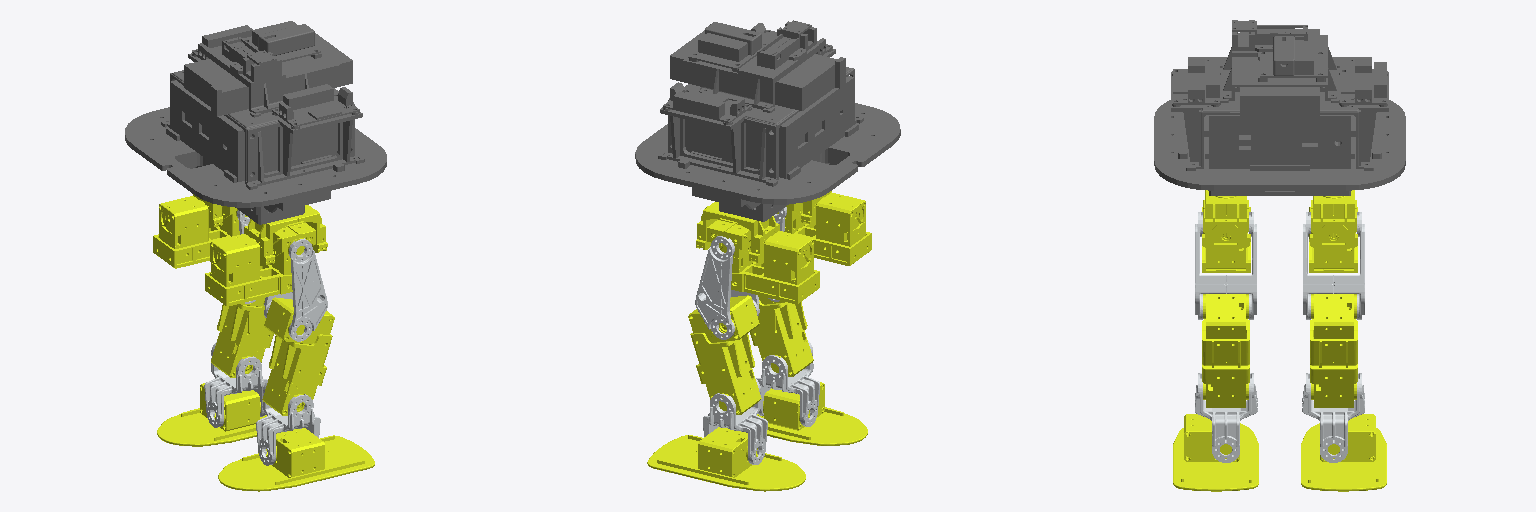
URDF robot description (exhx5_w_b_16):
<?xml version="1.0" encoding="utf-8"?>
<!-- This URDF was automatically created by SolidWorks to URDF Exporter! Originally created by [author] ([email redacted]) 
     Commit Version: 1.5.1-0-g916b5db  Build Version: 1.5.7152.31018
     For more information, please see http://wiki.ros.org/sw_urdf_exporter -->
<robot
  name="exhx5_w_b_16">
  <link
    name="body_link">
    <inertial>
      <origin
        xyz="0.00043545 0.00025536 0.10071"
        rpy="0 0 0" />
      <mass
        value="1.8238" />
      <inertia
        ixx="0.0025905"
        ixy="-5.6852E-06"
        ixz="-1.3106E-05"
        iyy="0.0024595"
        iyz="-1.261E-06"
        izz="0.0046407" />
    </inertial>
    <visual>
      <origin
        xyz="0 0 0"
        rpy="0 0 0" />
      <geometry>
        <mesh
          filename="../meshes/body_link.STL" />
      </geometry>
      <material
        name="">
        <color
          rgba="0.49804 0.49804 0.49804 1" />
      </material>
    </visual>
    <collision>
      <origin
        xyz="0 0 0"
        rpy="0 0 0" />
      <geometry>
        <mesh
          filename="../meshes/body_link.STL" />
      </geometry>
    </collision>
  </link>

  <link
    name="imu_link">
    <inertial>
      <origin
        xyz="-0.008387 1.336E-17 -0.0069463"
        rpy="0 0 0" />
      <mass
        value="0.0062931" />
      <inertia
        ixx="3.2242E-07"
        ixy="3.3527E-22"
        ixz="-6.9193E-08"
        iyy="9.2229E-07"
        iyz="-8.0392E-22"
        izz="1.1018E-06" />
    </inertial>
    <visual>
      <origin
        xyz="0 0 0"
        rpy="0 0 0" />
      <geometry>
        <mesh
          filename="../meshes/imu_link.STL" />
      </geometry>
      <material
        name="">
        <color
          rgba="0.79216 0.81961 0.93333 1" />
      </material>
    </visual>
    <collision>
      <origin
        xyz="0 0 0"
        rpy="0 0 0" />
      <geometry>
        <mesh
          filename="../meshes/imu_link.STL" />
      </geometry>
    </collision>
  </link>
  <joint
    name="imu"
    type="fixed">
    <origin
      xyz="0 0 0.0492"
      rpy="0 0 0" />
    <parent
      link="body_link" />
    <child
      link="imu_link" />
    <axis
      xyz="0 0 0" />
    <limit
      lower="-3.14"
      upper="3.14"
      effort="4"
      velocity="4" />
  </joint>
  <link
    name="l_hip_g_link">
    <inertial>
      <origin
        xyz="-0.0043797 -8.6604E-08 0.011813"
        rpy="0 0 0" />
      <mass
        value="0.061008" />
      <inertia
        ixx="1.167E-05"
        ixy="7.1767E-11"
        ixz="9.1442E-09"
        iyy="2.2342E-05"
        iyz="2.5177E-11"
        izz="2.4892E-05" />
    </inertial>
    <visual>
      <origin
        xyz="0 0 0"
        rpy="0 0 0" />
      <geometry>
        <mesh
          filename="../meshes/l_hip_g_link.STL" />
      </geometry>
      <material
        name="">
        <color
          rgba="0.9451 1 0.18431 1" />
      </material>
    </visual>
    <collision>
      <origin
        xyz="0 0 0"
        rpy="0 0 0" />
      <geometry>
        <mesh
          filename="../meshes/l_hip_g_link.STL" />
      </geometry>
    </collision>
  </link>
  <joint
    name="l_hip_g"
    type="fixed">
    <origin
      xyz=".002 0.045 0"
      rpy="0 0 0" />
    <parent
      link="body_link" />
    <child
      link="l_hip_g_link" />
    <axis
      xyz="0 0 0" />
  </joint>
  <link
    name="l_hip_roll_link">
    <inertial>
      <origin
        xyz="0.013831 0.00033457 0.025453"
        rpy="0 0 0" />
      <mass
        value="0.2969" />
      <inertia
        ixx="7.8136E-05"
        ixy="7.265E-07"
        ixz="-6.9809E-08"
        iyy="9.2183E-05"
        iyz="-5.6881E-11"
        izz="7.1034E-05" />
    </inertial>
    <visual>
      <origin
        xyz="0 0 0"
        rpy="0 0 0" />
      <geometry>
        <mesh
          filename="../meshes/l_hip_roll_link.STL" />
      </geometry>
      <material
        name="">
        <color
          rgba="0.9451 1 0.18431 1" />
      </material>
    </visual>
    <collision>
      <origin
        xyz="0 0 0"
        rpy="0 0 0" />
      <geometry>
        <mesh
          filename="../meshes/l_hip_roll_link.STL" />
      </geometry>
    </collision>
  </link>
  <joint
    name="l_hip_roll"
    type="revolute">
    <origin
      xyz="0 0 0"
      rpy="3.1416 1.5708 0" />
    <parent
      link="l_hip_g_link" />
    <child
      link="l_hip_roll_link" />
    <axis
      xyz="0 0 1" />
    <limit
      lower="-3.14"
      upper="3.14"
      effort="4"
      velocity="4" />
  </joint>
  <link
    name="l_hip_pitch_link">
    <inertial>
      <origin
        xyz="0.041225 -0.007321 -5.0713E-08"
        rpy="0 0 0" />
      <mass
        value="0.051592" />
      <inertia
        ixx="2.7959E-05"
        ixy="2.0752E-06"
        ixz="-8.0934E-11"
        iyy="4.8156E-05"
        iyz="3.6317E-11"
        izz="2.9604E-05" />
    </inertial>
    <visual>
      <origin
        xyz="0 0 0"
        rpy="0 0 0" />
      <geometry>
        <mesh
          filename="../meshes/l_hip_pitch_link.STL" />
      </geometry>
      <material
        name="">
        <color
          rgba="0.89804 0.91765 0.92941 1" />
      </material>
    </visual>
    <collision>
      <origin
        xyz="0 0 0"
        rpy="0 0 0" />
      <geometry>
        <mesh
          filename="../meshes/l_hip_pitch_link.STL" />
      </geometry>
    </collision>
  </link>
  <joint
    name="l_hip_pitch"
    type="revolute">
    <origin
      xyz="0 0 0"
      rpy="1.5708 0 0" />
    <parent
      link="l_hip_roll_link" />
    <child
      link="l_hip_pitch_link" />
    <axis
      xyz="0 0 1" />
    <limit
      lower="-3.14"
      upper="3.14"
      effort="4"
      velocity="4" />
  </joint>
  <link
    name="l_knee_link">
    <inertial>
      <origin
        xyz="0.033756 -0.0084189 -6.6115E-09"
        rpy="0 0 0" />
      <mass
        value="0.28878" />
      <inertia
        ixx="6.6724E-05"
        ixy="7.5004E-07"
        ixz="-8.4578E-07"
        iyy="6.5699E-05"
        iyz="4.1085E-07"
        izz="7.0381E-05" />
    </inertial>
    <visual>
      <origin
        xyz="0 0 0"
        rpy="0 0 0" />
      <geometry>
        <mesh
          filename="../meshes/l_knee_link.STL" />
      </geometry>
      <material
        name="">
        <color
          rgba="0.9451 1 0.18431 1" />
      </material>
    </visual>
    <collision>
      <origin
        xyz="0 0 0"
        rpy="0 0 0" />
      <geometry>
        <mesh
          filename="../meshes/l_knee_link.STL" />
      </geometry>
    </collision>
  </link>
  <joint
    name="l_knee"
    type="revolute">
    <origin
      xyz="0.075954 0 0"
      rpy="0 0 0" />
    <parent
      link="l_hip_pitch_link" />
    <child
      link="l_knee_link" />
    <axis
      xyz="0 0 1" />
    <limit
      lower="-3.14"
      upper="3.14"
      effort="4"
      velocity="4" />
  </joint>
  <link
    name="l_ank_pitch_link">
    <inertial>
      <origin
        xyz="0.022786 -7.3909E-09 -7.1981E-06"
        rpy="0 0 0" />
      <mass
        value="0.044772" />
      <inertia
        ixx="1.777E-05"
        ixy="8.555E-14"
        ixz="-3.3713E-09"
        iyy="1.7119E-05"
        iyz="1.7593E-11"
        izz="1.8661E-05" />
    </inertial>
    <visual>
      <origin
        xyz="0 0 0"
        rpy="0 0 0" />
      <geometry>
        <mesh
          filename="../meshes/l_ank_pitch_link.STL" />
      </geometry>
      <material
        name="">
        <color
          rgba="0.89804 0.91765 0.92941 1" />
      </material>
    </visual>
    <collision>
      <origin
        xyz="0 0 0"
        rpy="0 0 0" />
      <geometry>
        <mesh
          filename="../meshes/l_ank_pitch_link.STL" />
      </geometry>
    </collision>
  </link>
  <joint
    name="l_ank_pitch"
    type="revolute">
    <origin
      xyz="0.074602 0 0"
      rpy="3.1416 0 0" />
    <parent
      link="l_knee_link" />
    <child
      link="l_ank_pitch_link" />
    <axis
      xyz="0 0 1" />
    <limit
      lower="-3.14"
      upper="3.14"
      effort="4"
      velocity="4" />
  </joint>
  <link
    name="l_ank_roll_link">
    <inertial>
      <origin
        xyz="0.0047069 0.010728 0.0015299"
        rpy="0 0 0" />
      <mass
        value="0.16774" />
      <inertia
        ixx="0.00012039"
        ixy="-3.7428E-09"
        ixz="4.4069E-08"
        iyy="8.7735E-05"
        iyz="7.0469E-07"
        izz="4.7866E-05" />
    </inertial>
    <visual>
      <origin
        xyz="0 0 0"
        rpy="0 0 0" />
      <geometry>
        <mesh
          filename="../meshes/l_ank_roll_link.STL" />
      </geometry>
      <material
        name="">
        <color
          rgba="0.9451 1 0.18431 1" />
      </material>
    </visual>
    <collision>
      <origin
        xyz="0 0 0"
        rpy="0 0 0" />
      <geometry>
        <mesh
          filename="../meshes/l_ank_roll_link.STL" />
      </geometry>
    </collision>
  </link>
  <joint
    name="l_ank_roll"
    type="revolute">
    <origin
      xyz="0.0465 0 0"
      rpy="-1.5708 0 0" />
    <parent
      link="l_ank_pitch_link" />
    <child
      link="l_ank_roll_link" />
    <axis
      xyz="0 0 1" />
    <limit
      lower="-3.14"
      upper="3.14"
      effort="4"
      velocity="4" />
  </joint>
  <link
    name="r_hip_g_link">
    <inertial>
      <origin
        xyz="-0.0043797 -8.6604E-08 0.011813"
        rpy="0 0 0" />
      <mass
        value="0.061008" />
      <inertia
        ixx="1.167E-05"
        ixy="7.1767E-11"
        ixz="9.1442E-09"
        iyy="2.2342E-05"
        iyz="2.5177E-11"
        izz="2.4892E-05" />
    </inertial>
    <visual>
      <origin
        xyz="0 0 0"
        rpy="0 0 0" />
      <geometry>
        <mesh
          filename="../meshes/r_hip_g_link.STL" />
      </geometry>
      <material
        name="">
        <color
          rgba="0.9451 1 0.18431 1" />
      </material>
    </visual>
    <collision>
      <origin
        xyz="0 0 0"
        rpy="0 0 0" />
      <geometry>
        <mesh
          filename="../meshes/r_hip_g_link.STL" />
      </geometry>
    </collision>
  </link>
  <joint
    name="r_hip_g"
    type="fixed">
    <origin
      xyz=".002 -.045 0"
      rpy="0 0 0" />
    <parent
      link="body_link" />
    <child
      link="r_hip_g_link" />
    <axis
      xyz="0 0 0" />
  </joint>
  <link
    name="r_hip_roll_link">
    <inertial>
      <origin
        xyz="0.013831 0.00033457 0.025453"
        rpy="0 0 0" />
      <mass
        value="0.2969" />
      <inertia
        ixx="7.8136E-05"
        ixy="7.265E-07"
        ixz="-6.9809E-08"
        iyy="9.2183E-05"
        iyz="-5.6881E-11"
        izz="7.1034E-05" />
    </inertial>
    <visual>
      <origin
        xyz="0 0 0"
        rpy="0 0 0" />
      <geometry>
        <mesh
          filename="../meshes/r_hip_roll_link.STL" />
      </geometry>
      <material
        name="">
        <color
          rgba="0.9451 1 0.18431 1" />
      </material>
    </visual>
    <collision>
      <origin
        xyz="0 0 0"
        rpy="0 0 0" />
      <geometry>
        <mesh
          filename="../meshes/r_hip_roll_link.STL" />
      </geometry>
    </collision>
  </link>
  <joint
    name="r_hip_roll"
    type="revolute">
    <origin
      xyz="0 0 0"
      rpy="3.1416 1.5708 0" />
    <parent
      link="r_hip_g_link" />
    <child
      link="r_hip_roll_link" />
    <axis
      xyz="0 0 1" />
    <limit
      lower="-3.14"
      upper="3.14"
      effort="4"
      velocity="4" />
  </joint>
  <link
    name="r_hip_pitch_link">
    <inertial>
      <origin
        xyz="0.041225 0.007321 5.0713E-08"
        rpy="0 0 0" />
      <mass
        value="0.051592" />
      <inertia
        ixx="2.7959E-05"
        ixy="-2.0752E-06"
        ixz="8.0934E-11"
        iyy="4.8156E-05"
        iyz="3.6317E-11"
        izz="2.9604E-05" />
    </inertial>
    <visual>
      <origin
        xyz="0 0 0"
        rpy="0 0 0" />
      <geometry>
        <mesh
          filename="../meshes/r_hip_pitch_link.STL" />
      </geometry>
      <material
        name="">
        <color
          rgba="0.89804 0.91765 0.92941 1" />
      </material>
    </visual>
    <collision>
      <origin
        xyz="0 0 0"
        rpy="0 0 0" />
      <geometry>
        <mesh
          filename="../meshes/r_hip_pitch_link.STL" />
      </geometry>
    </collision>
  </link>
  <joint
    name="r_hip_pitch"
    type="revolute">
    <origin
      xyz="0 0 0"
      rpy="-1.5708 0 0" />
    <parent
      link="r_hip_roll_link" />
    <child
      link="r_hip_pitch_link" />
    <axis
      xyz="0 0 1" />
    <limit
      lower="-3.14"
      upper="3.14"
      effort="4"
      velocity="4" />
  </joint>
  <link
    name="r_knee_link">
    <inertial>
      <origin
        xyz="0.033757 0.0084176 6.6115E-09"
        rpy="0 0 0" />
      <mass
        value="0.28878" />
      <inertia
        ixx="6.6724E-05"
        ixy="-7.5008E-07"
        ixz="8.458E-07"
        iyy="6.5699E-05"
        iyz="4.1081E-07"
        izz="7.0381E-05" />
    </inertial>
    <visual>
      <origin
        xyz="0 0 0"
        rpy="0 0 0" />
      <geometry>
        <mesh
          filename="../meshes/r_knee_link.STL" />
      </geometry>
      <material
        name="">
        <color
          rgba="0.9451 1 0.18431 1" />
      </material>
    </visual>
    <collision>
      <origin
        xyz="0 0 0"
        rpy="0 0 0" />
      <geometry>
        <mesh
          filename="../meshes/r_knee_link.STL" />
      </geometry>
    </collision>
  </link>
  <joint
    name="r_knee"
    type="revolute">
    <origin
      xyz="0.075954 0 0"
      rpy="0 0 0" />
    <parent
      link="r_hip_pitch_link" />
    <child
      link="r_knee_link" />
    <axis
      xyz="0 0 1" />
    <limit
      lower="-3.14"
      upper="3.14"
      effort="4"
      velocity="4" />
  </joint>
  <link
    name="r_ank_pitch_link">
    <inertial>
      <origin
        xyz="0.025786 -7.3887E-09 -7.1981E-06"
        rpy="0 0 0" />
      <mass
        value="0.044772" />
      <inertia
        ixx="1.777E-05"
        ixy="8.5434E-14"
        ixz="-3.3713E-09"
        iyy="1.7119E-05"
        iyz="1.7592E-11"
        izz="1.8661E-05" />
    </inertial>
    <visual>
      <origin
        xyz="0 0 0"
        rpy="0 0 0" />
      <geometry>
        <mesh
          filename="../meshes/r_ank_pitch_link.STL" />
      </geometry>
      <material
        name="">
        <color
          rgba="0.89804 0.91765 0.92941 1" />
      </material>
    </visual>
    <collision>
      <origin
        xyz="0 0 0"
        rpy="0 0 0" />
      <geometry>
        <mesh
          filename="../meshes/r_ank_pitch_link.STL" />
      </geometry>
    </collision>
  </link>
  <joint
    name="r_ank_pitch"
    type="revolute">
    <origin
      xyz="0.071602 0 0"
      rpy="3.1416 0 0" />
    <parent
      link="r_knee_link" />
    <child
      link="r_ank_pitch_link" />
    <axis
      xyz="0 0 1" />
    <limit
      lower="-3.14"
      upper="3.14"
      effort="4"
      velocity="4" />
  </joint>
  <link
    name="r_ank_roll_link">
    <inertial>
      <origin
        xyz="0.0077069 -0.010728 0.0015299"
        rpy="0 0 0" />
      <mass
        value="0.16774" />
      <inertia
        ixx="0.00012039"
        ixy="3.743E-09"
        ixz="4.407E-08"
        iyy="8.7735E-05"
        iyz="-7.0467E-07"
        izz="4.7866E-05" />
    </inertial>
    <visual>
      <origin
        xyz="0 0 0"
        rpy="0 0 0" />
      <geometry>
        <mesh
          filename="../meshes/r_ank_roll_link.STL" />
      </geometry>
      <material
        name="">
        <color
          rgba="0.9451 1 0.18431 1" />
      </material>
    </visual>
    <collision>
      <origin
        xyz="0 0 0"
        rpy="0 0 0" />
      <geometry>
        <mesh
          filename="../meshes/r_ank_roll_link.STL" />
      </geometry>
    </collision>
  </link>
  <joint
    name="r_ank_roll"
    type="revolute">
    <origin
      xyz="0.0465 0 0"
      rpy="1.5708 0 0" />
    <parent
      link="r_ank_pitch_link" />
    <child
      link="r_ank_roll_link" />
    <axis
      xyz="0 0 1" />
    <limit
      lower="-3.14"
      upper="3.14"
      effort="4"
      velocity="4" />
  </joint>
  <transmission name="r_hip_roll_tran">
    <type>transmission_interface/SimpleTransmission</type>
    <joint name="r_hip_roll">
      <hardwareInterface>hardware_interface/EffortJointInterface</hardwareInterface>
    </joint>
    <actuator name="r_hip_roll_motor">
      <hardwareInterface>hardware_interface/EffortJointInterface</hardwareInterface>
      <mechanicalReduction>1</mechanicalReduction>
    </actuator>
  </transmission>
  <transmission name="r_hip_pitch_tran">
    <type>transmission_interface/SimpleTransmission</type>
    <joint name="r_hip_pitch">
      <hardwareInterface>hardware_interface/EffortJointInterface</hardwareInterface>
    </joint>
    <actuator name="r_hip_pitch_motor">
      <hardwareInterface>hardware_interface/EffortJointInterface</hardwareInterface>
      <mechanicalReduction>1</mechanicalReduction>
    </actuator>
  </transmission>
  <transmission name="r_knee_tran">
    <type>transmission_interface/SimpleTransmission</type>
    <joint name="r_knee">
      <hardwareInterface>hardware_interface/EffortJointInterface</hardwareInterface>
    </joint>
    <actuator name="r_knee_motor">
      <hardwareInterface>hardware_interface/EffortJointInterface</hardwareInterface>
      <mechanicalReduction>1</mechanicalReduction>
    </actuator>
  </transmission>
  <transmission name="r_ank_pitch_tran">
    <type>transmission_interface/SimpleTransmission</type>
    <joint name="r_ank_pitch">
      <hardwareInterface>hardware_interface/EffortJointInterface</hardwareInterface>
    </joint>
    <actuator name="r_ank_pitch_motor">
      <hardwareInterface>hardware_interface/EffortJointInterface</hardwareInterface>
      <mechanicalReduction>1</mechanicalReduction>
    </actuator>
  </transmission>
  <transmission name="r_ank_roll_tran">
    <type>transmission_interface/SimpleTransmission</type>
    <joint name="r_ank_roll">
      <hardwareInterface>hardware_interface/EffortJointInterface</hardwareInterface>
    </joint>
    <actuator name="r_ank_roll_motor">
      <hardwareInterface>hardware_interface/EffortJointInterface</hardwareInterface>
      <mechanicalReduction>1</mechanicalReduction>
    </actuator>
  </transmission>
  <transmission name="l_hip_roll_tran">
    <type>transmission_interface/SimpleTransmission</type>
    <joint name="l_hip_roll">
      <hardwareInterface>hardware_interface/EffortJointInterface</hardwareInterface>
    </joint>
    <actuator name="l_hip_roll_motor">
      <hardwareInterface>hardware_interface/EffortJointInterface</hardwareInterface>
      <mechanicalReduction>1</mechanicalReduction>
    </actuator>
  </transmission>
  <transmission name="l_hip_pitch_tran">
    <type>transmission_interface/SimpleTransmission</type>
    <joint name="l_hip_pitch">
      <hardwareInterface>hardware_interface/EffortJointInterface</hardwareInterface>
    </joint>
    <actuator name="l_hip_pitch_motor">
      <hardwareInterface>hardware_interface/EffortJointInterface</hardwareInterface>
      <mechanicalReduction>1</mechanicalReduction>
    </actuator>
  </transmission>
  <transmission name="l_knee_tran">
    <type>transmission_interface/SimpleTransmission</type>
    <joint name="l_knee">
      <hardwareInterface>hardware_interface/EffortJointInterface</hardwareInterface>
    </joint>
    <actuator name="l_knee_motor">
      <hardwareInterface>hardware_interface/EffortJointInterface</hardwareInterface>
      <mechanicalReduction>1</mechanicalReduction>
    </actuator>
  </transmission>
  <transmission name="l_ank_pitch_tran">
    <type>transmission_interface/SimpleTransmission</type>
    <joint name="l_ank_pitch">
      <hardwareInterface>hardware_interface/EffortJointInterface</hardwareInterface>
    </joint>
    <actuator name="l_ank_pitch_motor">
      <hardwareInterface>hardware_interface/EffortJointInterface</hardwareInterface>
      <mechanicalReduction>1</mechanicalReduction>
    </actuator>
  </transmission>
  <transmission name="l_ank_roll_tran">
    <type>transmission_interface/SimpleTransmission</type>
    <joint name="l_ank_roll">
      <hardwareInterface>hardware_interface/EffortJointInterface</hardwareInterface>
    </joint>
    <actuator name="l_ank_roll_motor">
      <hardwareInterface>hardware_interface/EffortJointInterface</hardwareInterface>
      <mechanicalReduction>1</mechanicalReduction>
    </actuator>
  </transmission>
</robot>

--- Render facts (derived) ---
Views: 3 orthographic renders of the robot side by side, from view 1: azimuth 30°, elevation 25°; view 2: azimuth 150°, elevation 25°; view 3: azimuth 270°, elevation 25°.
Robot: exhx5_w_b_16 — 14 links, 13 joints (10 revolute, 3 fixed); root link body_link; default pose: every joint at zero.
Visible links, largest first — view 1: body_link, r_ank_roll_link, r_hip_roll_link, r_knee_link, l_hip_roll_link, l_ank_roll_link, l_knee_link, r_hip_pitch_link, r_ank_pitch_link, l_ank_pitch_link, r_hip_g_link; view 2: body_link, l_ank_roll_link, l_hip_roll_link, l_knee_link, r_hip_roll_link, r_ank_roll_link, r_knee_link, l_hip_pitch_link, l_ank_pitch_link, r_ank_pitch_link, l_hip_g_link; view 3: body_link, l_knee_link, r_knee_link, l_ank_roll_link, r_ank_roll_link, l_hip_g_link, r_hip_g_link, l_hip_pitch_link, r_hip_pitch_link, l_ank_pitch_link, r_ank_pitch_link, l_hip_roll_link (+1 smaller).
Link boxes in pixels (x1,y1,x2,y2): body_link: (125,21,386,224); r_ank_roll_link: (218,428,374,491); r_hip_roll_link: (205,221,315,306); r_knee_link: (262,297,334,415); l_hip_roll_link: (153,196,247,268); l_ank_roll_link: (157,383,266,446); l_knee_link: (211,297,273,377); r_hip_pitch_link: (264,238,327,341); r_ank_pitch_link: (256,380,320,465); l_ank_pitch_link: (204,342,266,427); r_hip_g_link: (244,205,327,265); body_link: (635,20,900,221); l_ank_roll_link: (647,427,805,491); l_hip_roll_link: (707,218,819,304); l_knee_link: (688,295,761,414); r_hip_roll_link: (777,192,871,265); r_ank_roll_link: (757,382,867,445); r_knee_link: (750,295,813,376); l_hip_pitch_link: (695,236,759,339); l_ank_pitch_link: (703,378,767,464); r_ank_pitch_link: (756,341,819,426); l_hip_g_link: (696,202,779,263); body_link: (1154,20,1405,195); l_knee_link: (1310,294,1357,407); r_knee_link: (1202,294,1249,407); l_ank_roll_link: (1301,414,1386,491); r_ank_roll_link: (1173,414,1258,491); l_hip_g_link: (1309,190,1357,247); r_hip_g_link: (1202,190,1250,247); l_hip_pitch_link: (1303,212,1364,319); r_hip_pitch_link: (1195,212,1256,319); l_ank_pitch_link: (1302,373,1364,462); r_ank_pitch_link: (1195,373,1257,462); l_hip_roll_link: (1309,200,1357,272).
Bounding box of the posed robot: 0.185 × 0.21 × 0.3893 m (x, y, z).
14 mesh visuals loaded from 14 distinct referenced files (14 binary STL).
